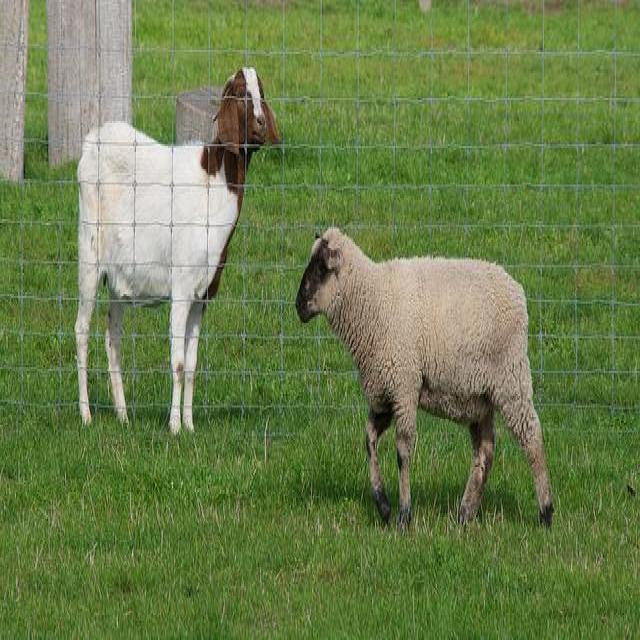Sheep: (294, 219, 555, 536), (74, 63, 281, 442)
